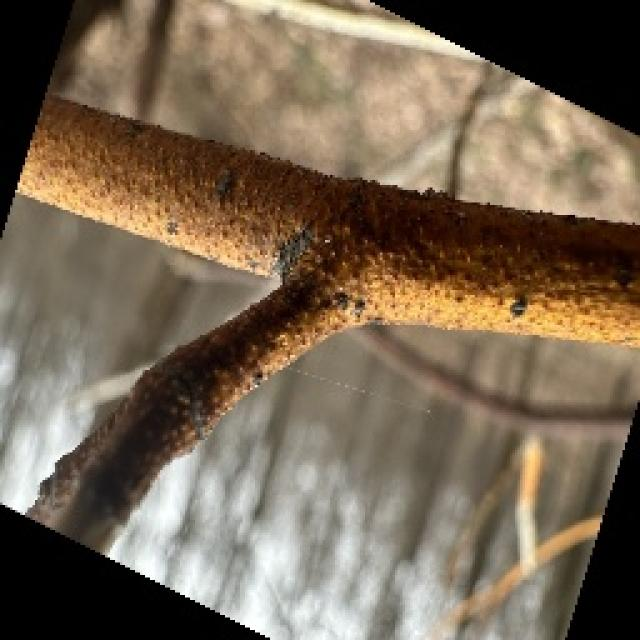Golden_canker: (0, 52, 640, 530)
